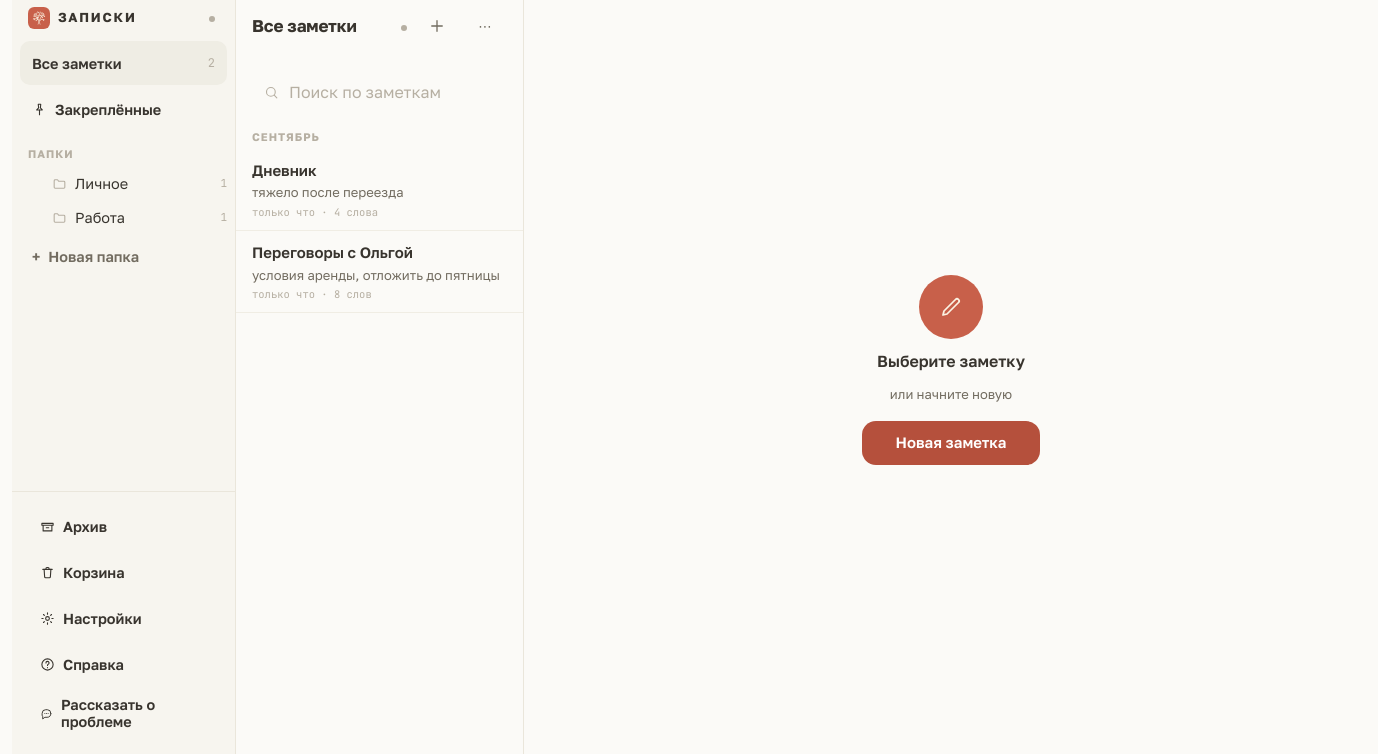
it: дорога к форме › в библиотеке есть постоянный вход — не только в настройках
The image size is (1378, 754).
Click the button "Рассказать о проблеме". click: point(124, 713)
box: [28,688,219,738]
(page scrolled)
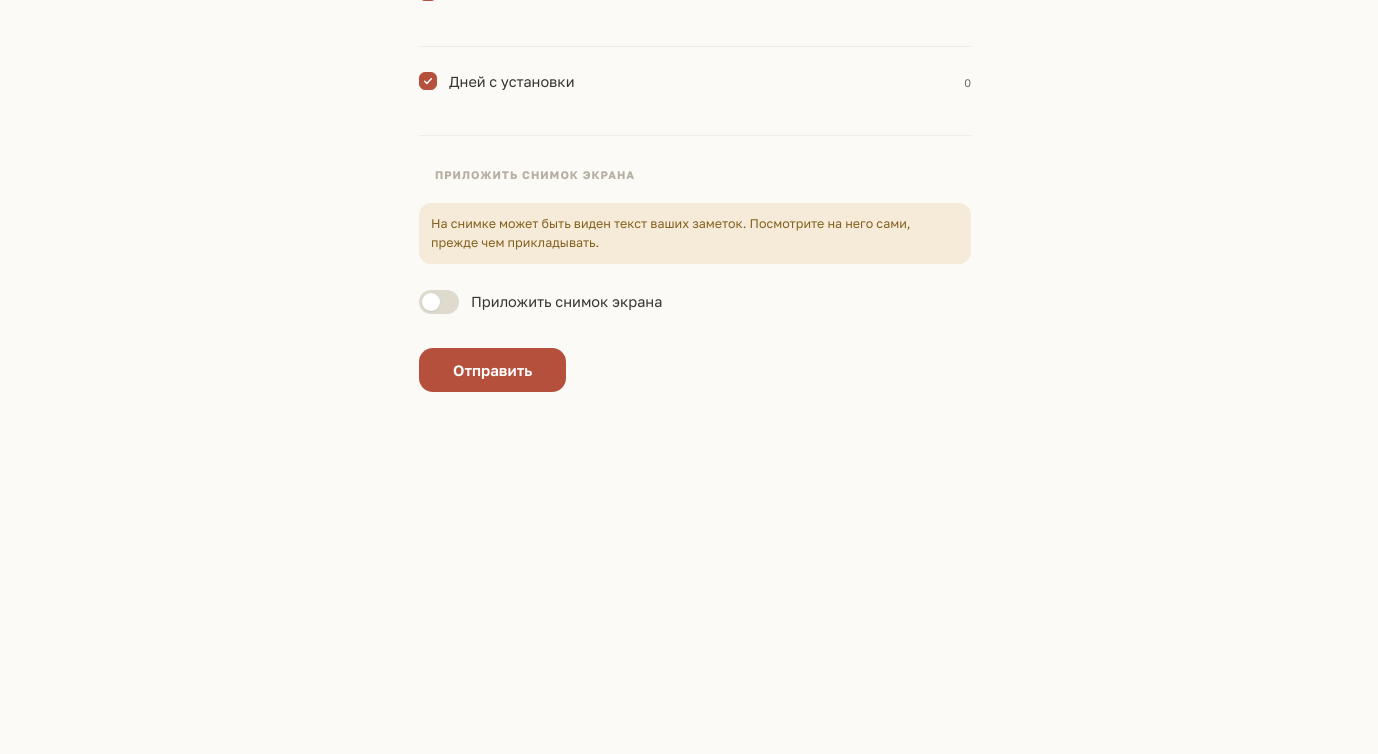
Check: the button "Отправить" is shown, box [419,348,566,392]
